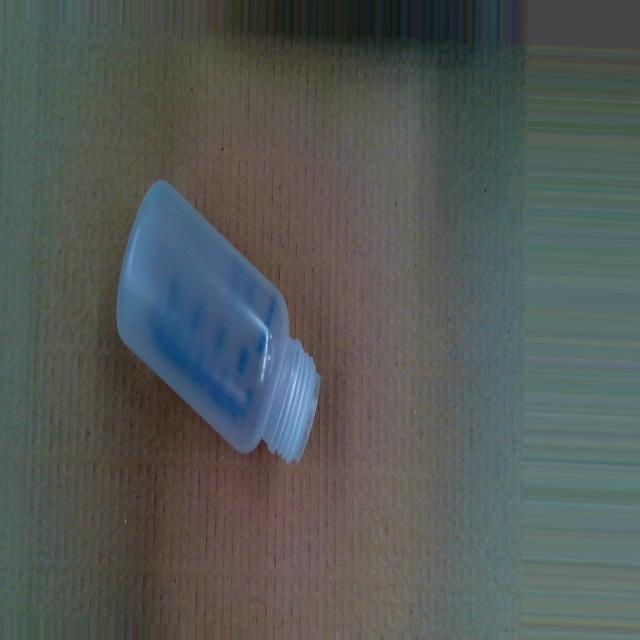bottle: (111, 173, 326, 470)
